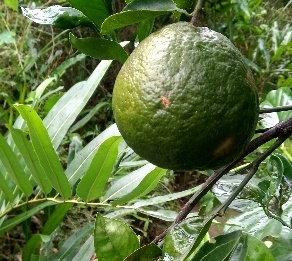Cam: (111, 18, 261, 174)
